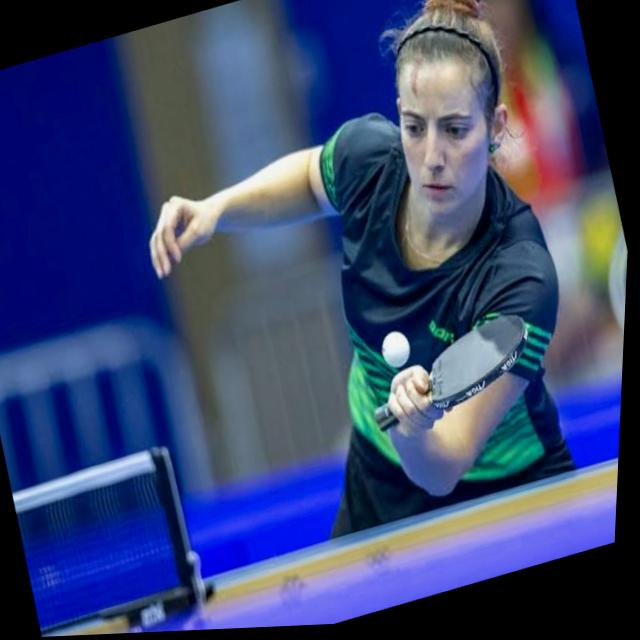TT Net: (13, 437, 210, 635)
TT Racket: (418, 293, 549, 427)
TT Table: (41, 455, 619, 637)
